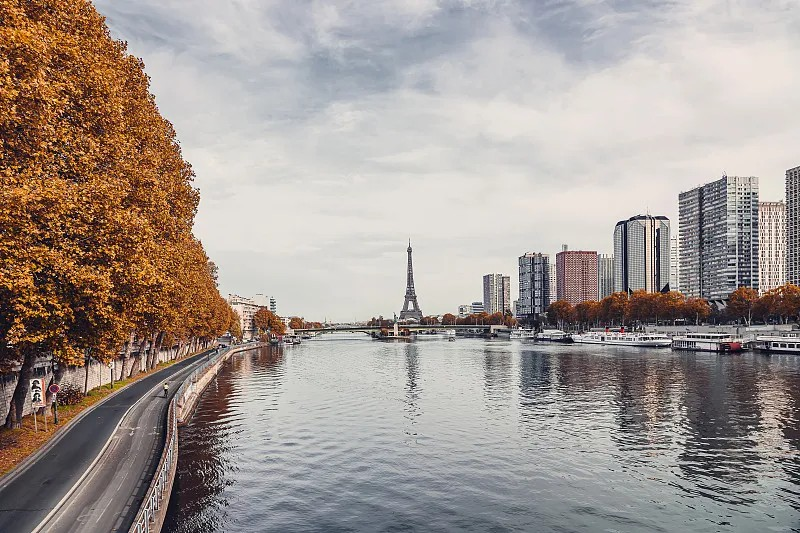Eiffel: (398, 238, 423, 321)
